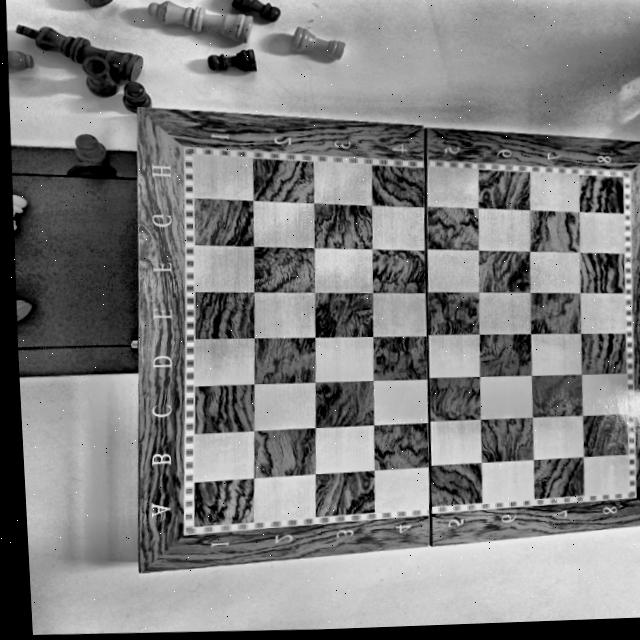chessboard: (137, 109, 640, 570)
